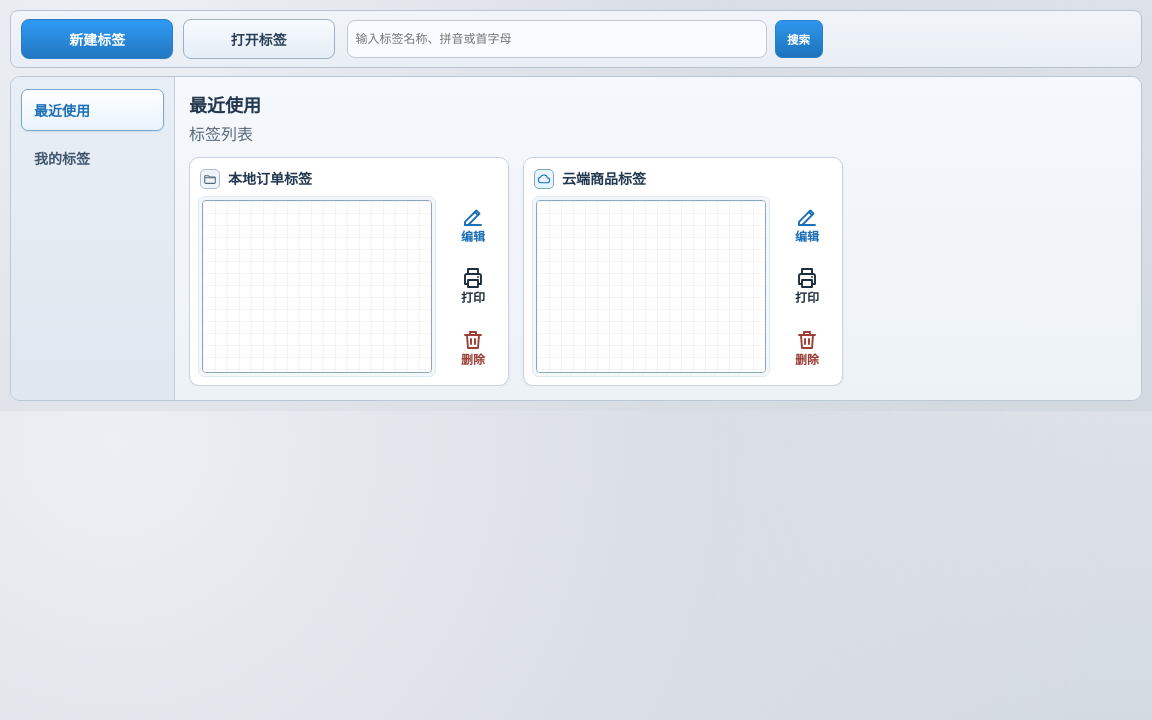
Test: HomePage recent label sources › mixes local and cloud records with explicit source icons
The image size is (1152, 720).
Expected: the picture named "本地标签" is shown, [200,169,220,189]
Expected: the picture named "云端标签" is shown, [534,169,554,189]
Click the button with class "danger" below "云端商品标签" at (807, 348), box [780,320,834,376]
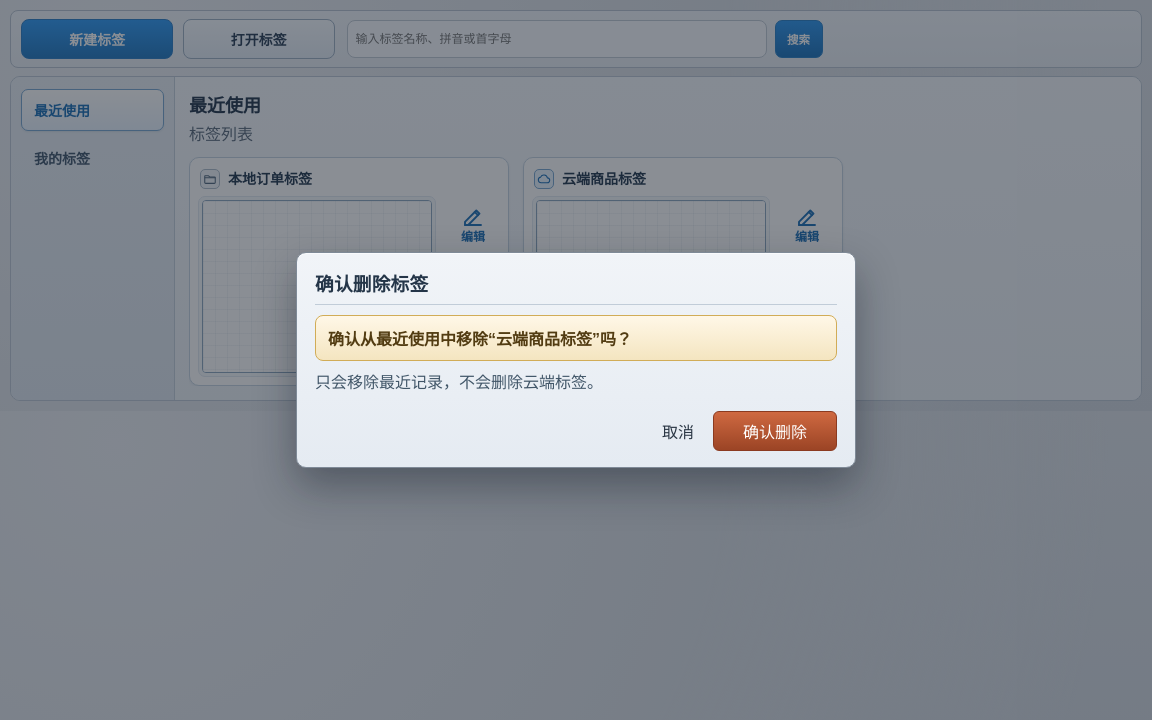
Expected: the number of elements with class "home-label-item" is 2, [189,157,509,386]; [523,157,843,386]
Expected: the text "只会移除最近记录，不会删除云端标签。" is shown, [315,374,603,391]
